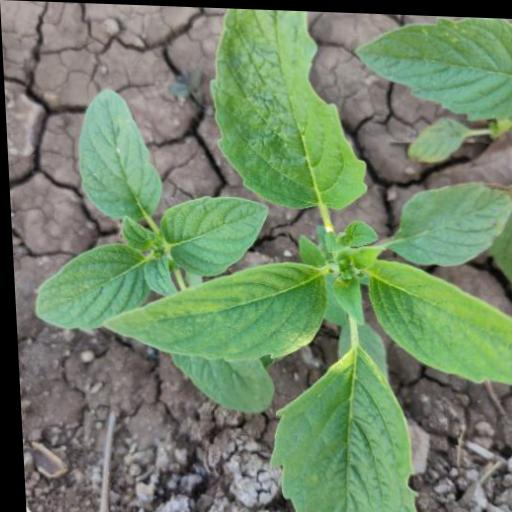crop: (83, 4, 512, 512), (17, 74, 291, 409)
